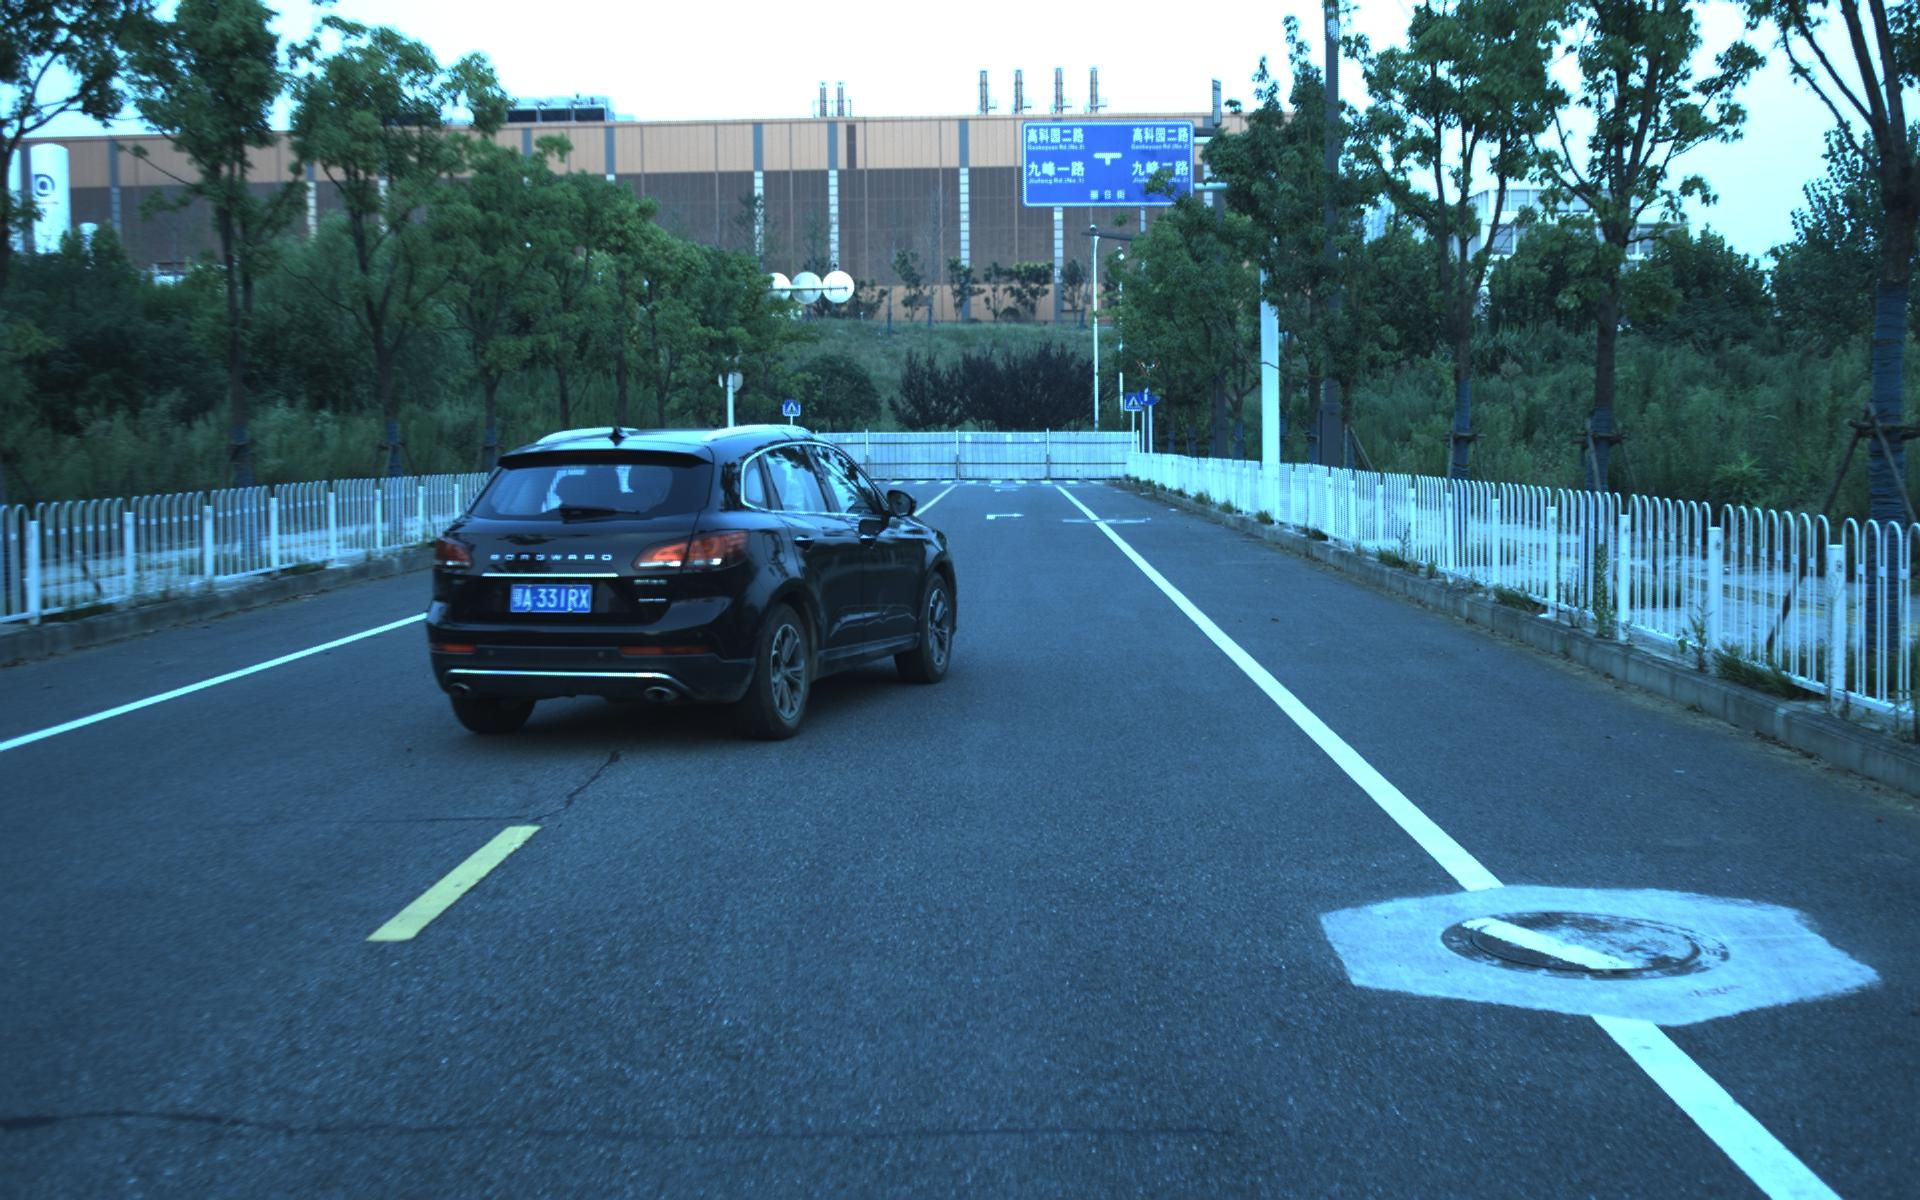Car: (399, 409, 959, 760)
